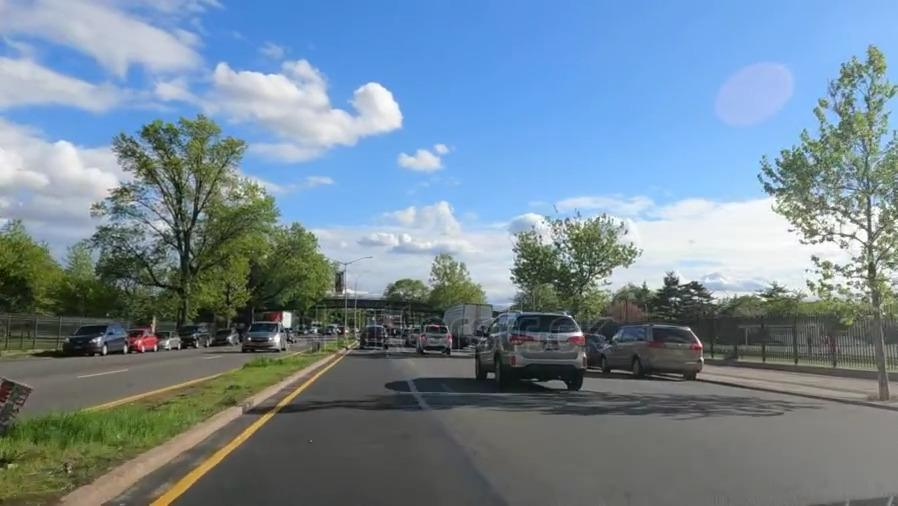car: (477, 310, 585, 385), (609, 324, 706, 381), (71, 326, 128, 356), (247, 318, 287, 354), (419, 322, 455, 353), (362, 325, 389, 350), (131, 327, 154, 354), (181, 329, 211, 347), (157, 331, 179, 352)
